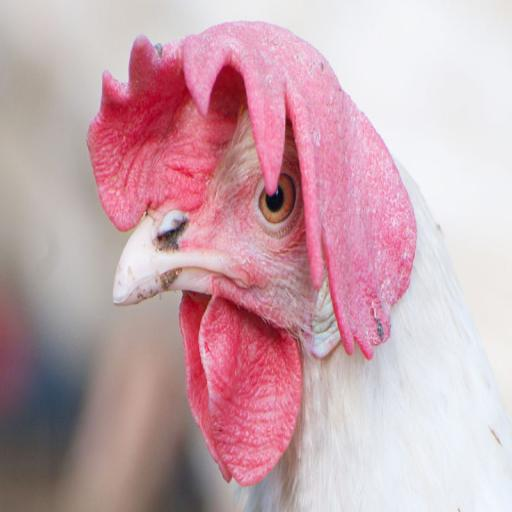disease: (151, 18, 346, 136), (309, 114, 413, 283), (149, 203, 201, 308), (353, 279, 391, 343)
